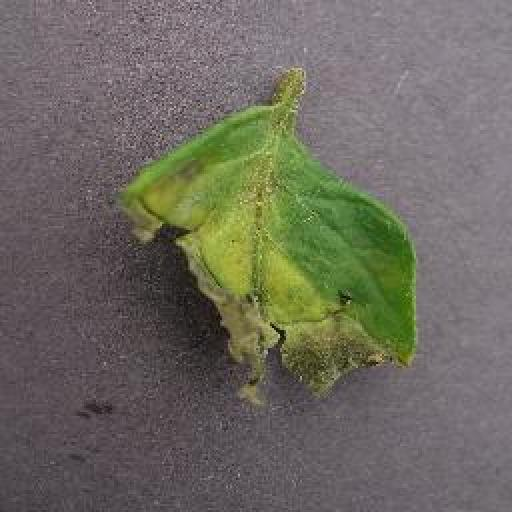disease_tomato: (108, 104, 418, 408)
